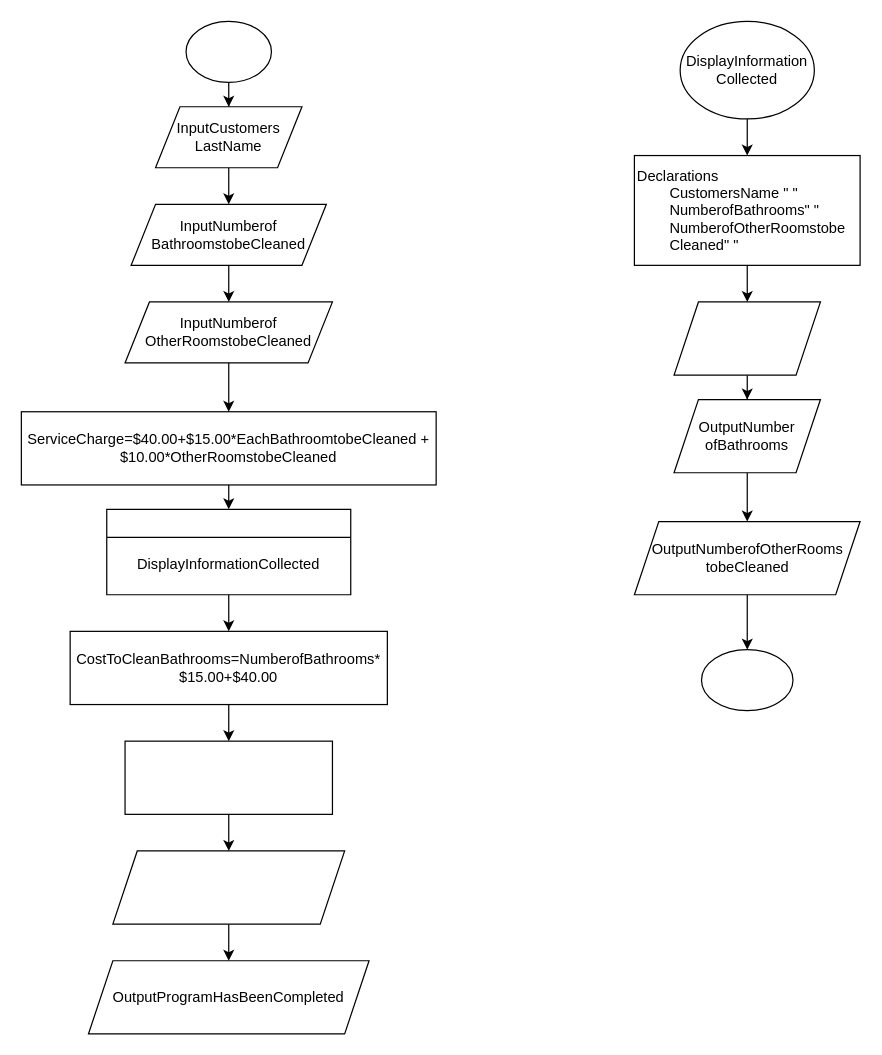
The diagram is 882 pixels wide and 1055 high, and some of its shapes have lost their labels. Here are the shapes that lost their labels. From the top down, the centre of each, then its label:
At [228,51]: "Start".
At [746,338]: "OutputCustomers Name".
At [746,679]: "Return".
At [228,777]: "CostToCleanOtherRooms= NumberofOtherRooms*$10.00".
At [228,887]: "OutputTotalCosttoClean BathroomsandOtherRooms".
